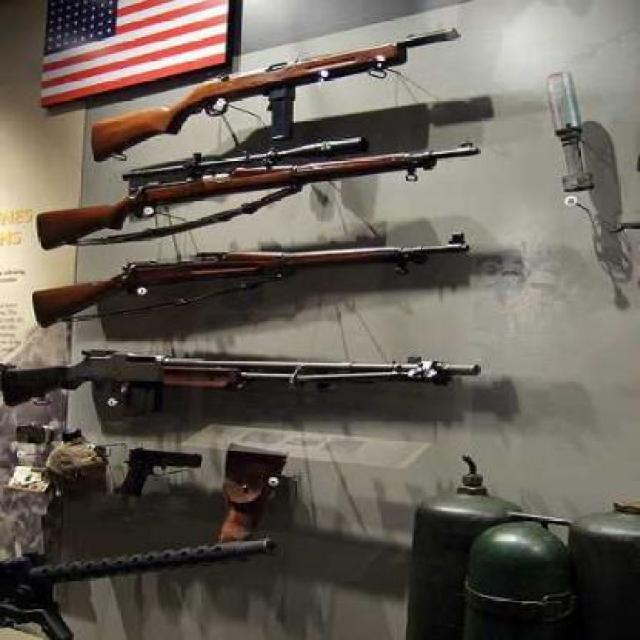weapon: (36, 114, 480, 252), (84, 28, 464, 152), (34, 224, 472, 331), (1, 350, 482, 413), (1, 547, 275, 640), (120, 443, 204, 506)
